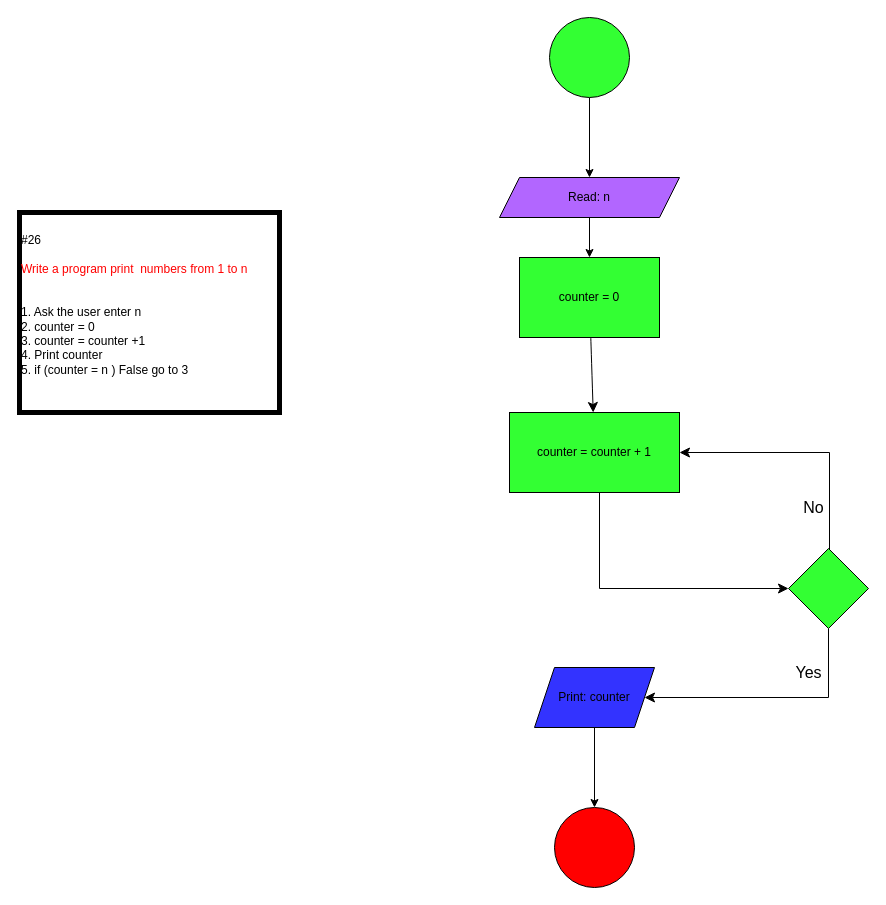
This 886x905 diagram has some shape labels left out. The shapes that lost their labels are listed below. From the top down, each one's box as (x1, y1, x2, y2) in pixels, then its label:
(548, 16, 630, 98): Start
(788, 548, 868, 628): If (counter = n) True
(554, 806, 634, 888): End
